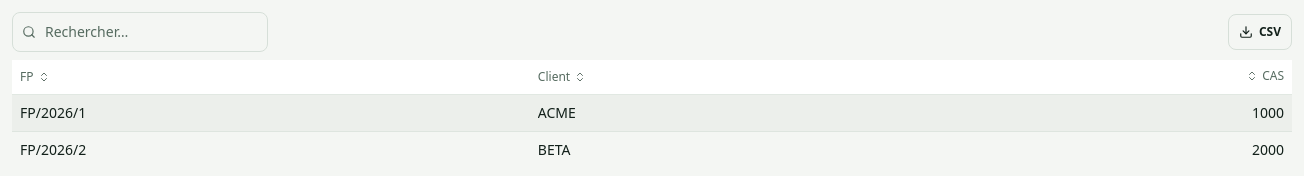
Test: Table — recherche intégrée (searchKeys) › filtre les lignes selon la requête (insensible casse)
Expected: the text "ACME" is shown, [538,103,576,122]
Expected: the text "BETA" is shown, [538,140,570,159]
Step 1. Type "acm" into the field → (140, 32), box [12,12,268,52]
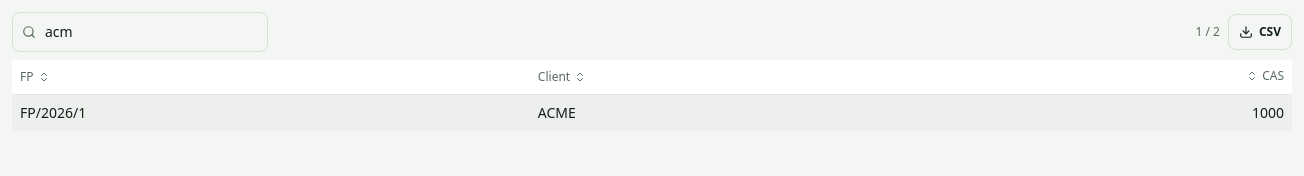
Expected: the text "ACME" is shown, [538,103,576,122]
Expected: the text "BETA" is gone
